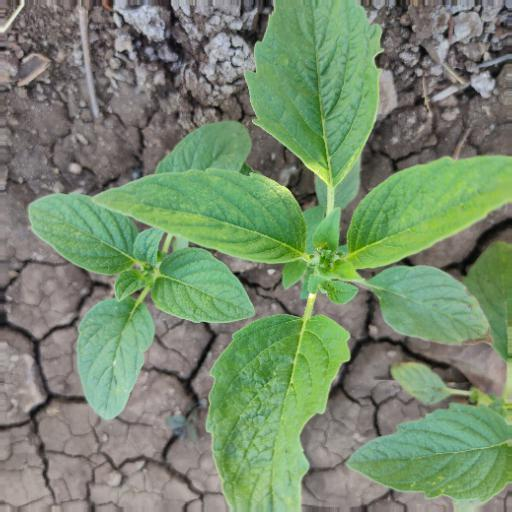crop: (90, 1, 511, 512), (25, 133, 265, 451)
